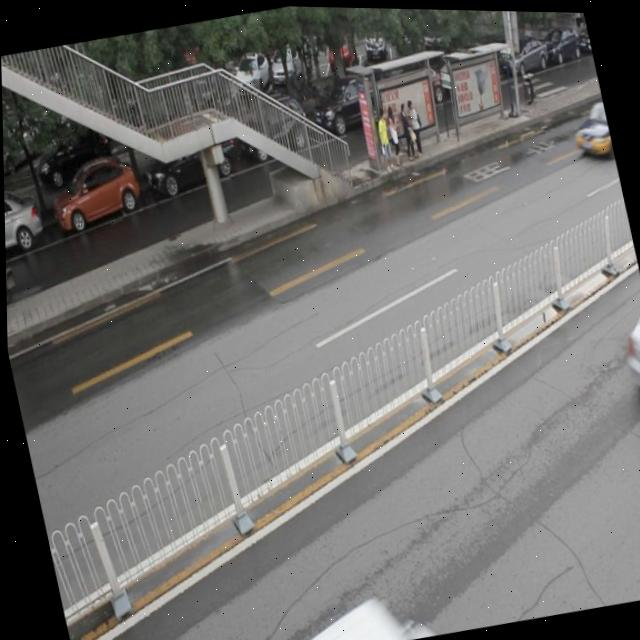car: (137, 108, 242, 196), (44, 152, 143, 238), (305, 68, 388, 139), (236, 89, 311, 164), (613, 290, 640, 419), (567, 94, 615, 163), (3, 187, 46, 262)
truck: (221, 574, 454, 640)
